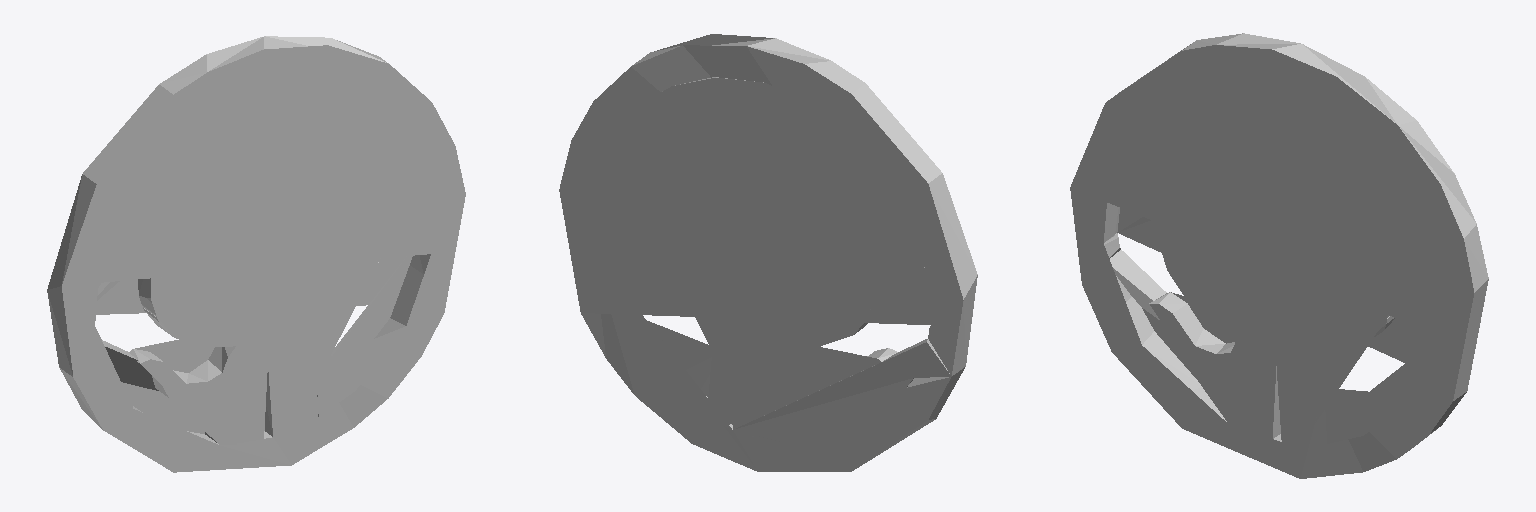
The model's file is github.obj.
The picture shows the model from 3 angles: view 1: azimuth 30°, elevation 25°; view 2: azimuth 150°, elevation 25°; view 3: azimuth 330°, elevation 25°; orthographic projection.
Parts seen in each view (by area): view 1: octocat-keychain; view 2: octocat-keychain; view 3: octocat-keychain.
Boxes of the visible parts, <box> form: octocat-keychain: <box>47,36,465,472</box>; octocat-keychain: <box>559,34,977,471</box>; octocat-keychain: <box>1070,33,1488,478</box>.
Size of the model in its own units: 1.88 by 1.88 by 0.1246.